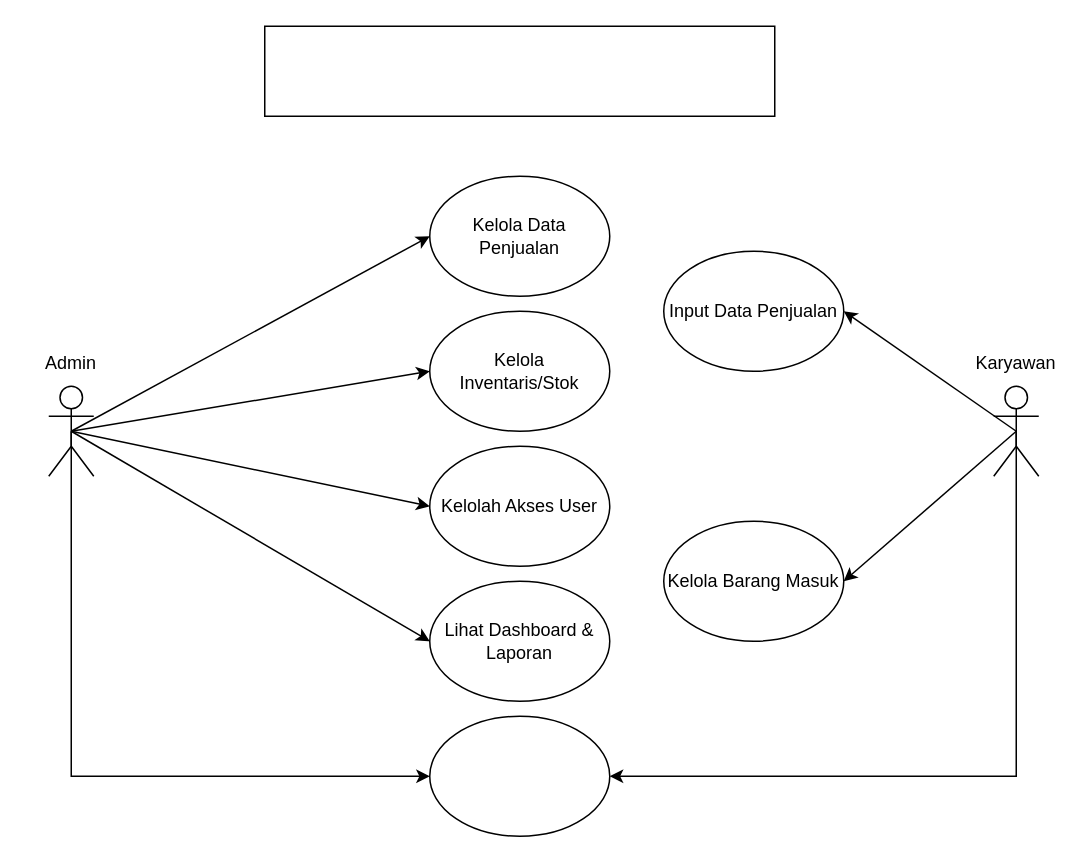
Some shapes in this 1086 by 863 pixel diagram are drawn without their labels. Each missing label, with the centre of its shape:
Login: point (519, 775)
USE CASE DIAGRAM SYSTEM: point (519, 70)
